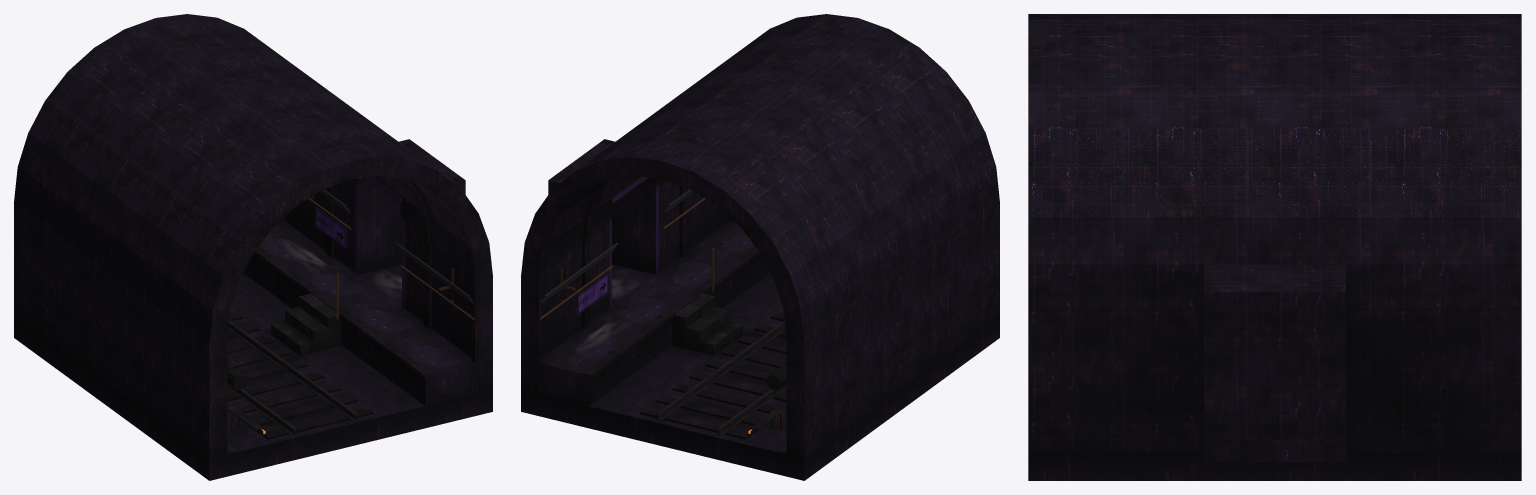
File: tunnel_refuge.glb
3 views of the same model, side by side, from view 1: azimuth 30°, elevation 25°; view 2: azimuth 150°, elevation 25°; view 3: azimuth 270°, elevation 25° (orthographic). The views are drawn at different scales.
Parts seen in each view (by area): view 1: body, decals; view 2: body, decals; view 3: body.
Boxes of the visible parts, left/top/right/bottom form: body: left=14, top=14, right=492, bottom=480; decals: left=284, top=208, right=401, bottom=291; body: left=521, top=14, right=999, bottom=480; decals: left=578, top=275, right=632, bottom=349; body: left=1028, top=14, right=1521, bottom=480.
Size of what is drawn, in the model's own units: 7.7 by 6.45 by 8.
16 materials, 11 textured.
